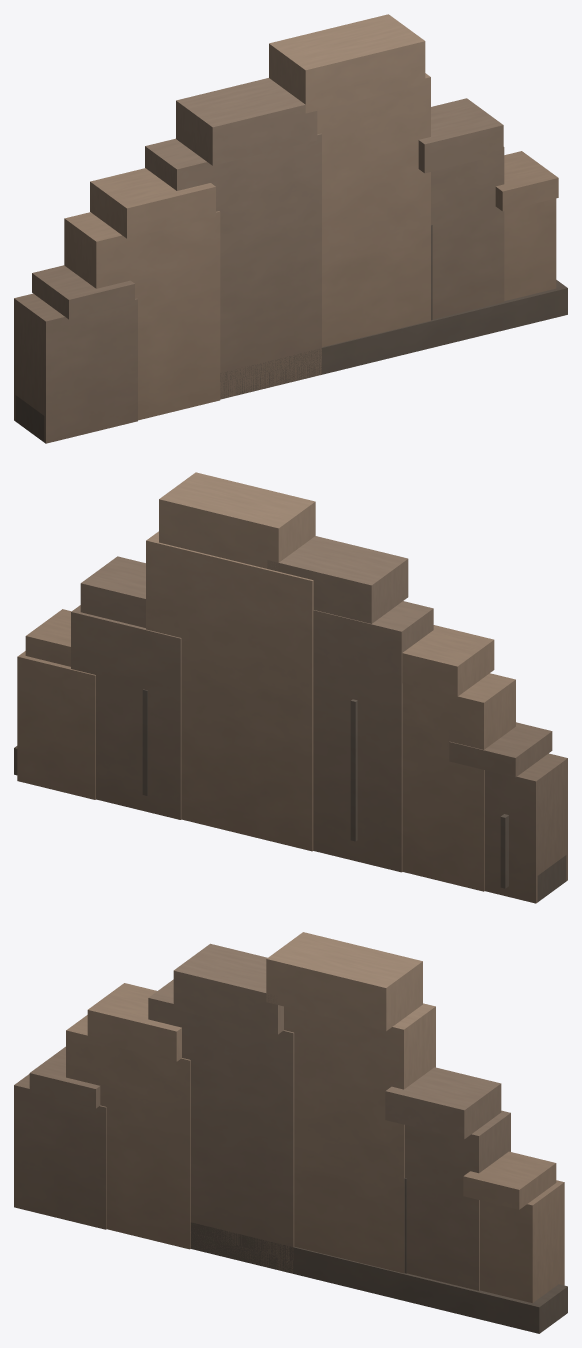
Rendered from hero_mesa_skyline.glb.
3 renders of one model, top to bottom at view 1: azimuth 30°, elevation 25°; view 2: azimuth 150°, elevation 25°; view 3: azimuth 330°, elevation 25°, orthographic.
Visible parts, largest first — view 1: hero_mesa_skyline; view 2: hero_mesa_skyline; view 3: hero_mesa_skyline.
Part boxes in pixels (bbox=[...]): hero_mesa_skyline: bbox=[14, 14, 567, 443]; hero_mesa_skyline: bbox=[14, 472, 567, 903]; hero_mesa_skyline: bbox=[14, 932, 567, 1333].
Bounding box in the file's own units: 7.4 × 4.23 × 0.97.
1 material, 1 textured.
